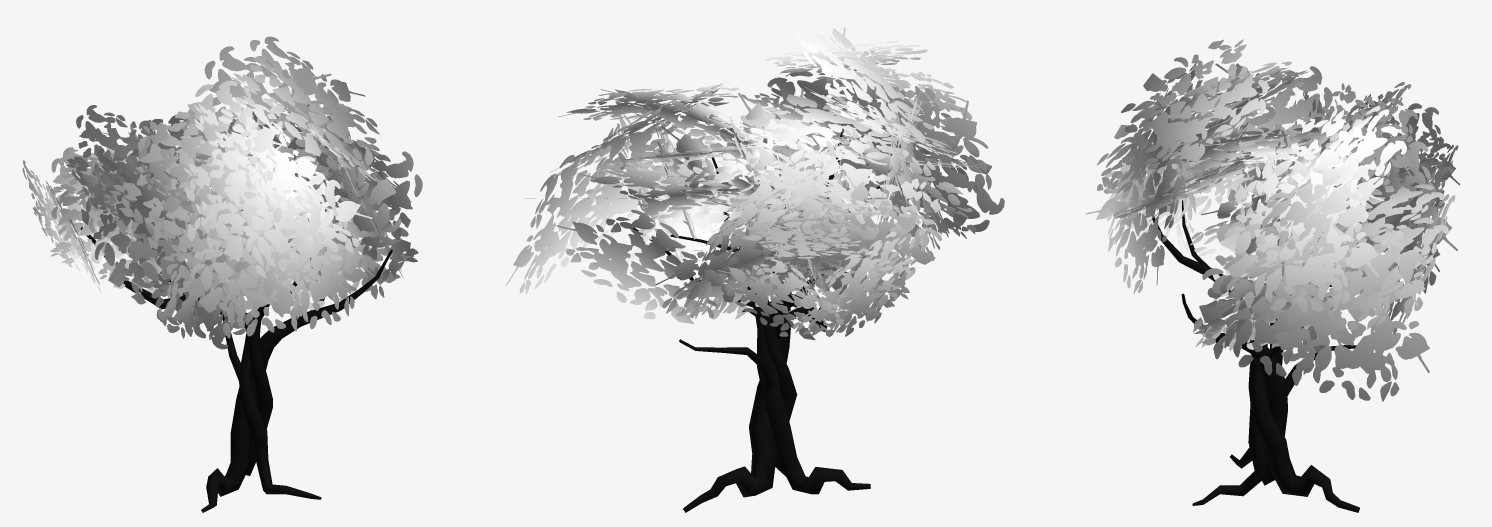
Rendered from BIZZARE_tree1.fbx.
3 views of the same model, side by side, from view 1: azimuth 30°, elevation 25°; view 2: azimuth 150°, elevation 25°; view 3: azimuth 270°, elevation 25° (orthographic). The views are drawn at different scales.
Parts seen in each view (by area): view 1: Leaves1, Trunk1; view 2: Leaves1, Trunk1; view 3: Leaves1, Trunk1.
Boxes of the visible parts, x1,y1,x2,y2 form: Leaves1: [22, 36, 422, 349]; Trunk1: [80, 227, 392, 512]; Leaves1: [506, 27, 1004, 340]; Trunk1: [633, 132, 879, 512]; Leaves1: [1085, 39, 1459, 401]; Trunk1: [1152, 200, 1359, 512].
Size of the model in its own units: 7.71 by 8.08 by 6.88.
